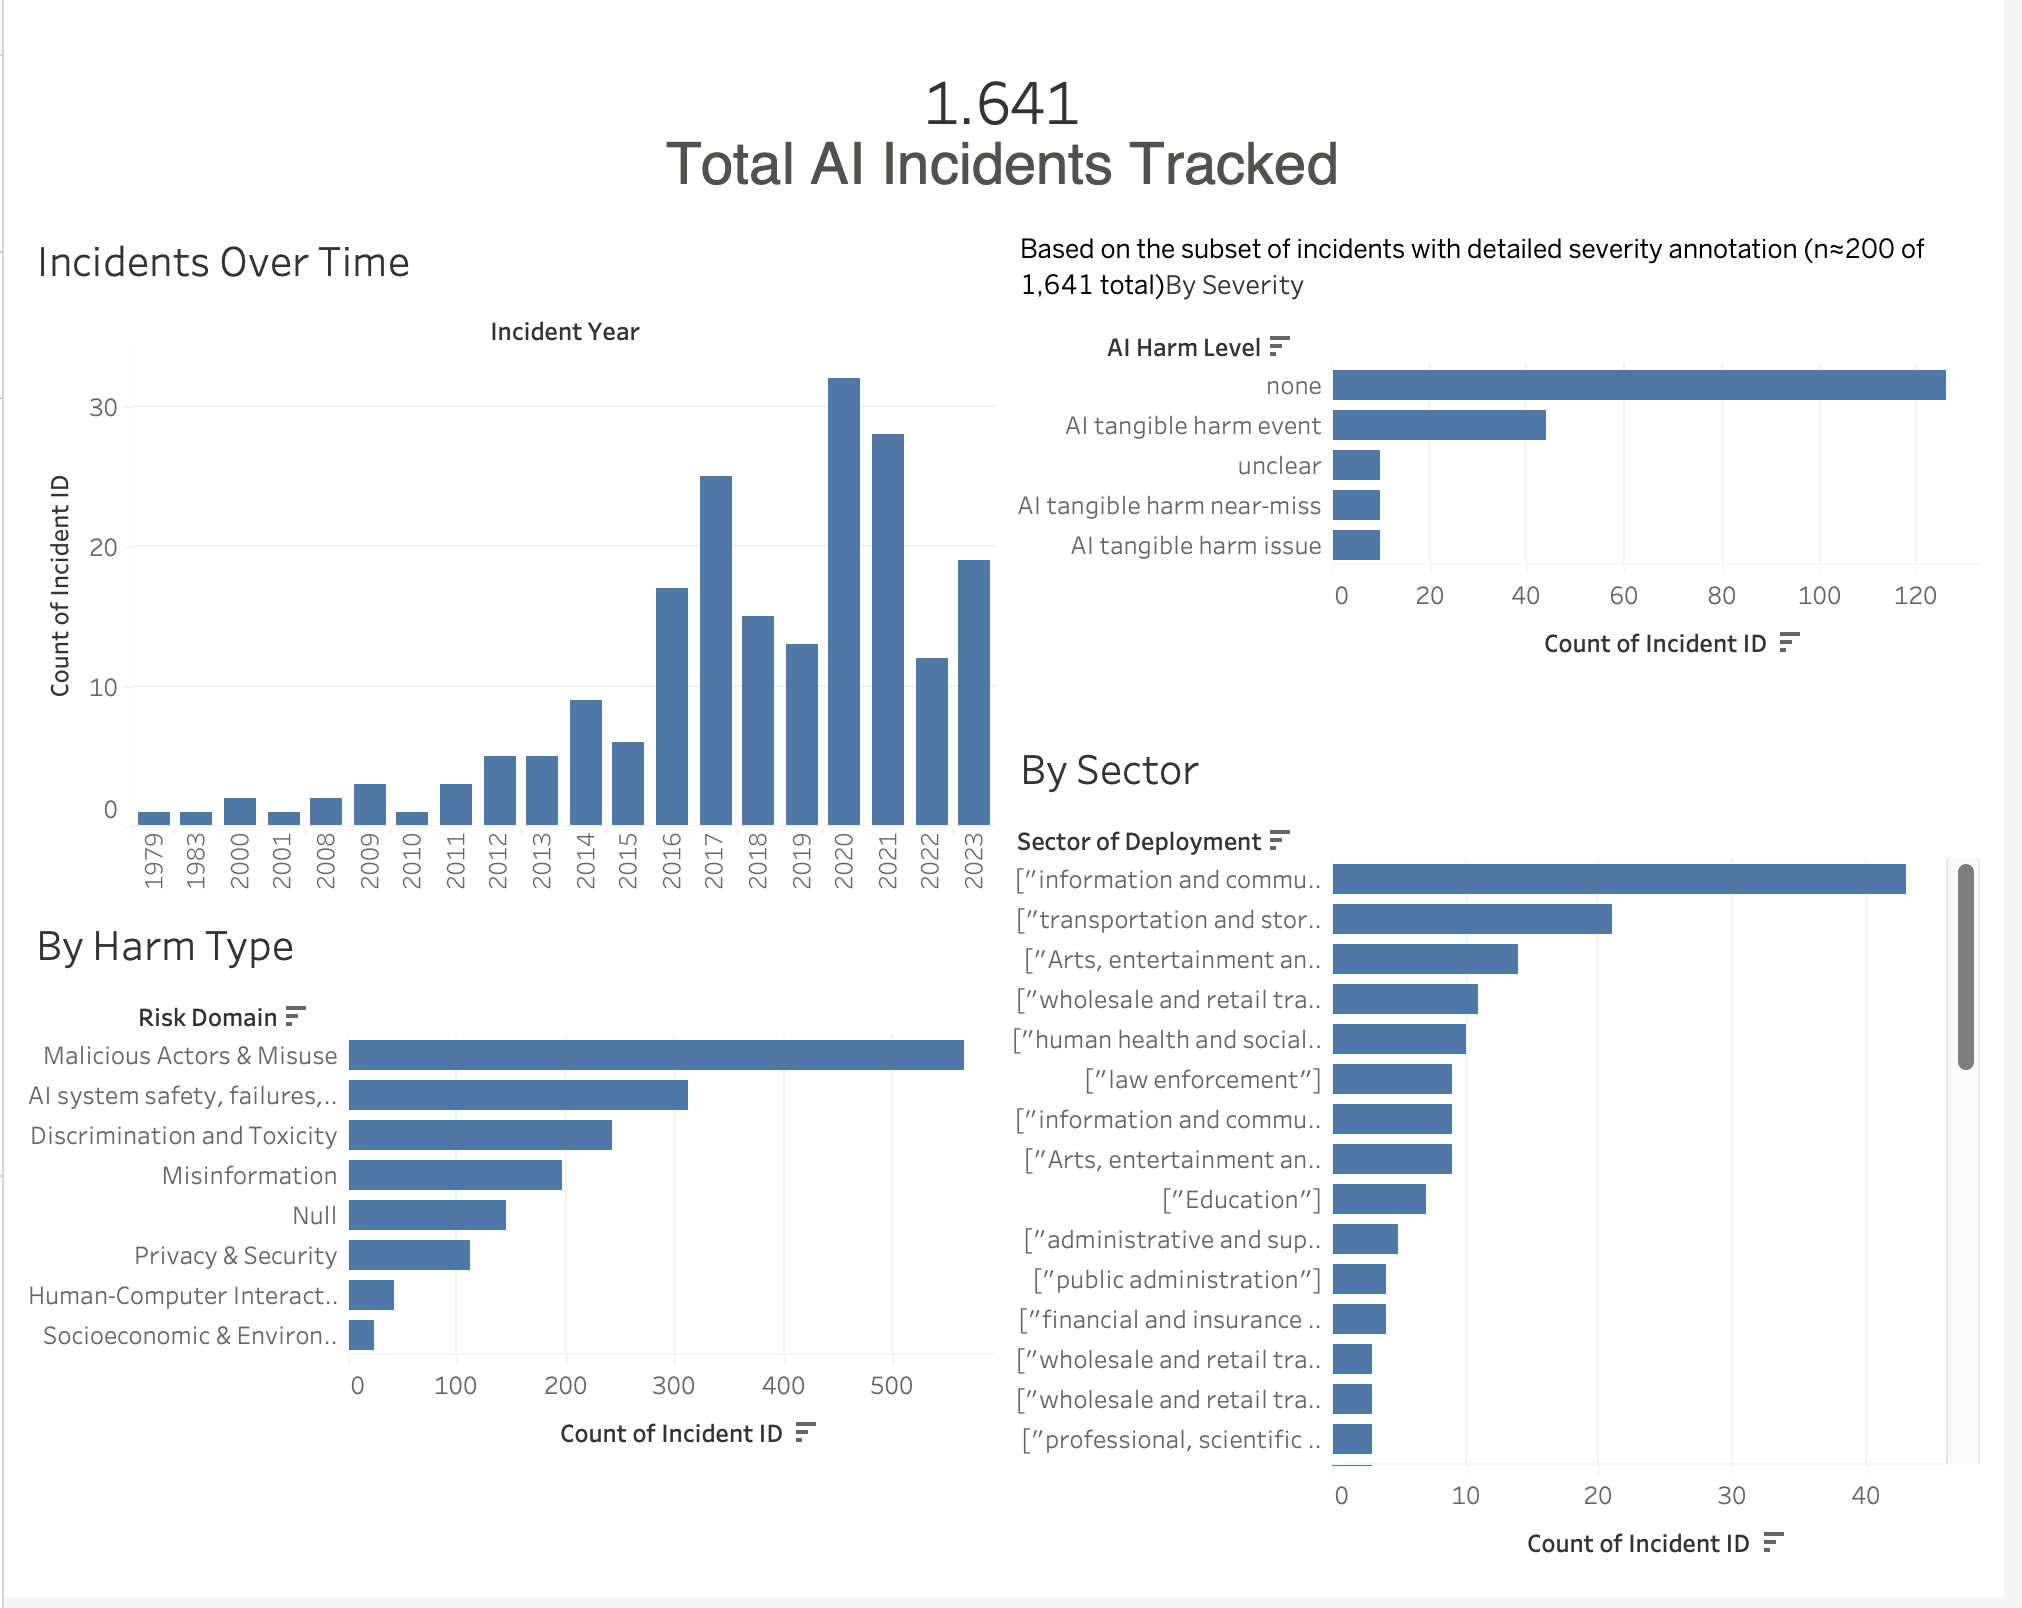

The page's visual inventory and layout, read from the dashboard file:
{"tool":"tableau","page":{"name":"Dashboard 1","canvas":[1000,800],"ordinal":0},"visuals":[{"type":"worksheet","title":"KPI_Total_Incidents","mark":"Automatic","box":[8,8,984,101]},{"type":"worksheet","title":"Incidents Over Time","mark":"Automatic","rows":["Incident ID"],"cols":["Incident Year"],"box":[8,109,492,341.5]},{"type":"worksheet","title":"By Severity","mark":"Automatic","rows":["AI Harm Level"],"cols":["Incident ID"],"box":[500,109,492,253.8]},{"type":"worksheet","title":"By Sector","mark":"Automatic","rows":["Sector of Deployment"],"cols":["Incident ID"],"box":[500,362.8,492,429.2]},{"type":"worksheet","title":"By Harm Type","mark":"Automatic","rows":["Risk Domain"],"cols":["Incident ID"],"box":[8,450.5,492,341.5]}]}

Visuals, with their boxes in screenshot pixels (x1, y1, x2, y2), scaled from the page's 1000x800 canvas onto the 2022x1608 screenshot:
"KPI_Total_Incidents" worksheet: select_region(16, 16, 2006, 219)
"Incidents Over Time" worksheet: select_region(16, 219, 1011, 906)
"By Severity" worksheet: select_region(1011, 219, 2006, 729)
"By Sector" worksheet: select_region(1011, 729, 2006, 1592)
"By Harm Type" worksheet: select_region(16, 906, 1011, 1592)
